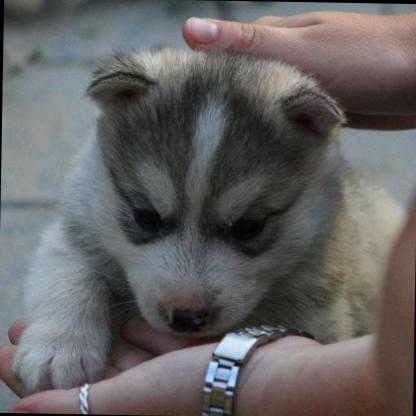Eskimo_dog: (8, 37, 412, 402)
